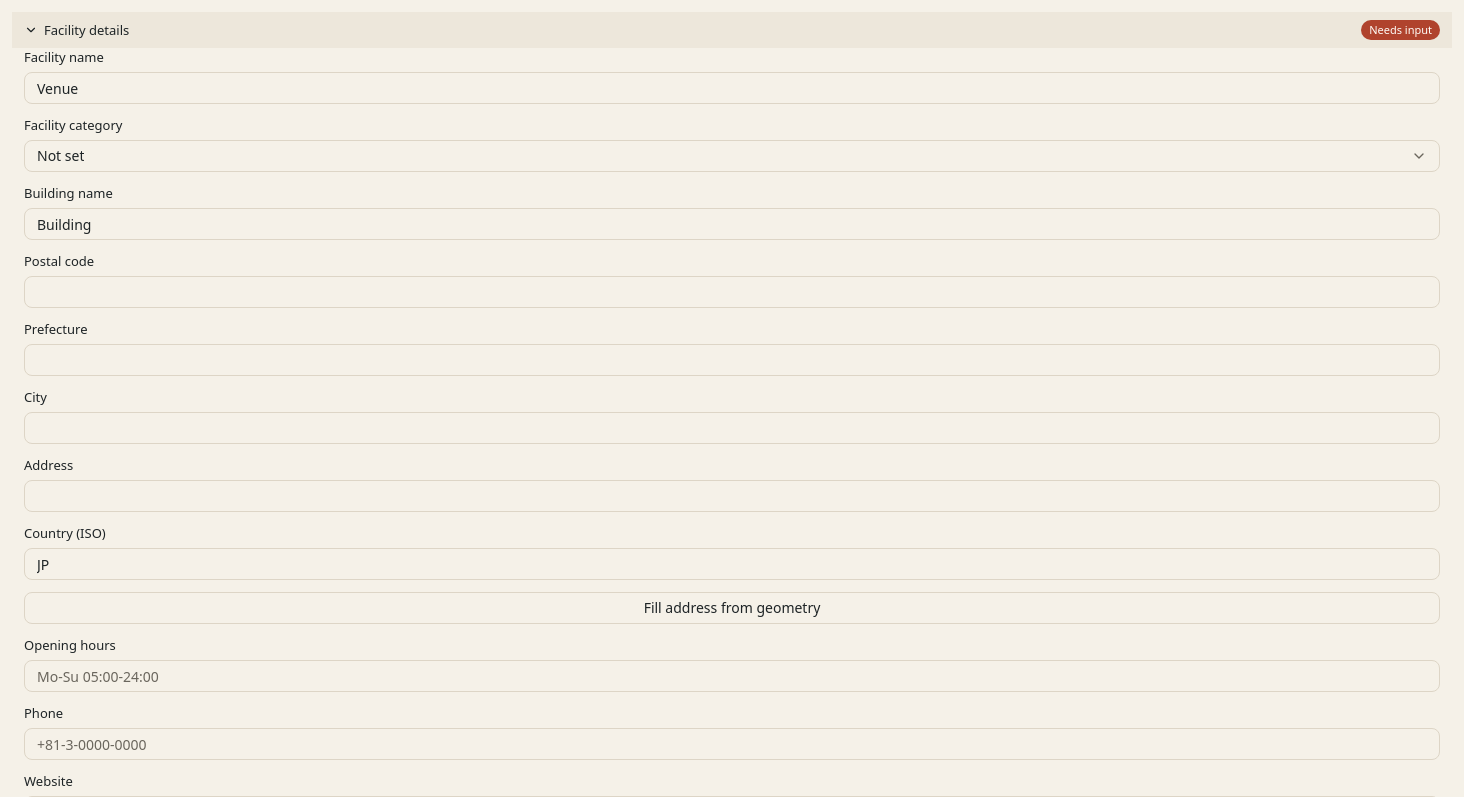
Test: autofill fills the address fields without saving
Click the button "Fill address from geometry". click: [732, 608]
box: x1=24 y1=592 x2=1440 y2=624
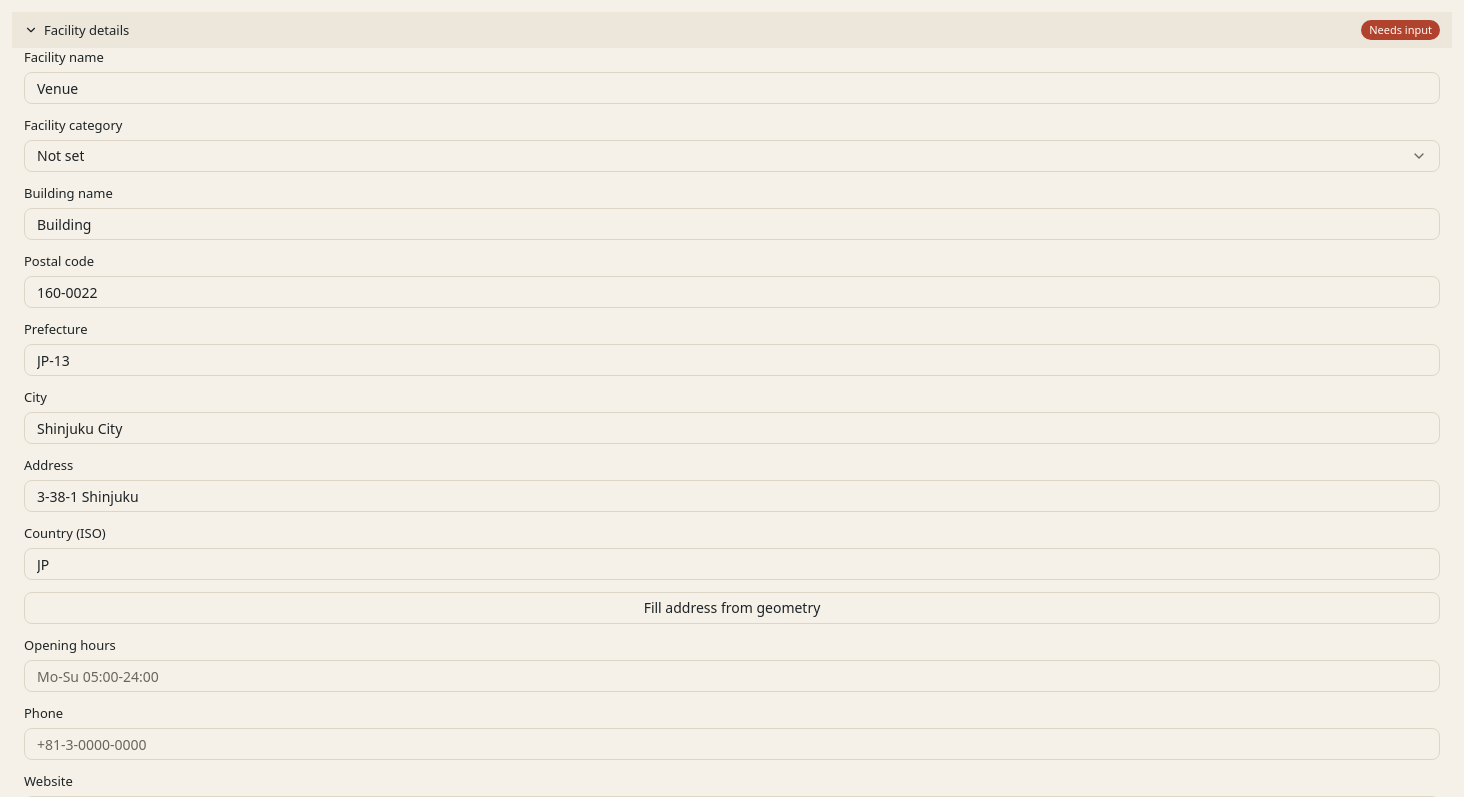
Check: the field showing "160-0022" is shown, box x1=24 y1=276 x2=1440 y2=308
Check: the field showing "3-38-1 Shinjuku" is shown, box x1=24 y1=480 x2=1440 y2=512
